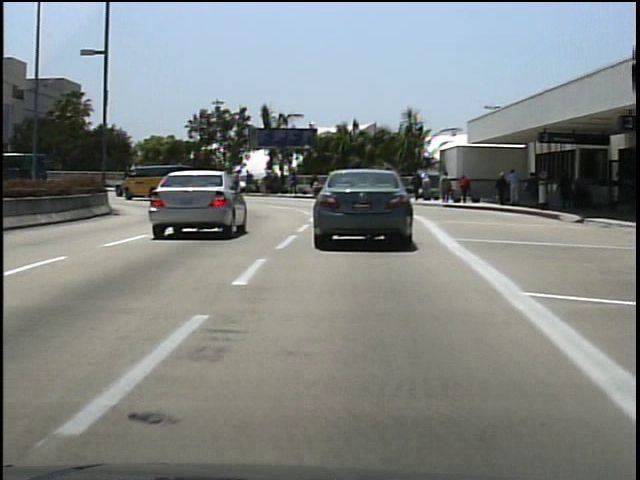person: (573, 167, 594, 217), (555, 164, 575, 213), (507, 166, 524, 208), (524, 169, 541, 209), (458, 173, 475, 209), (494, 170, 510, 207), (441, 169, 456, 204), (409, 169, 424, 202), (119, 163, 134, 192), (184, 169, 200, 194)
